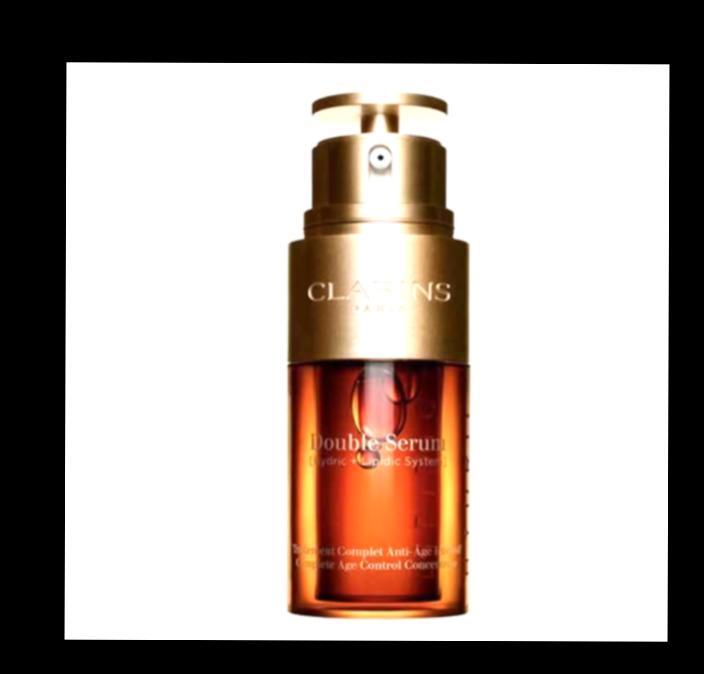cosmetic: (280, 84, 472, 613)
